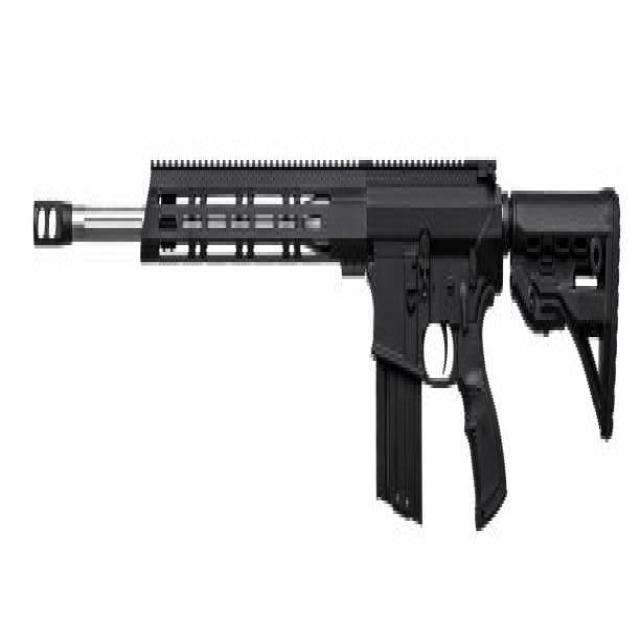rifle: (27, 134, 625, 566)
